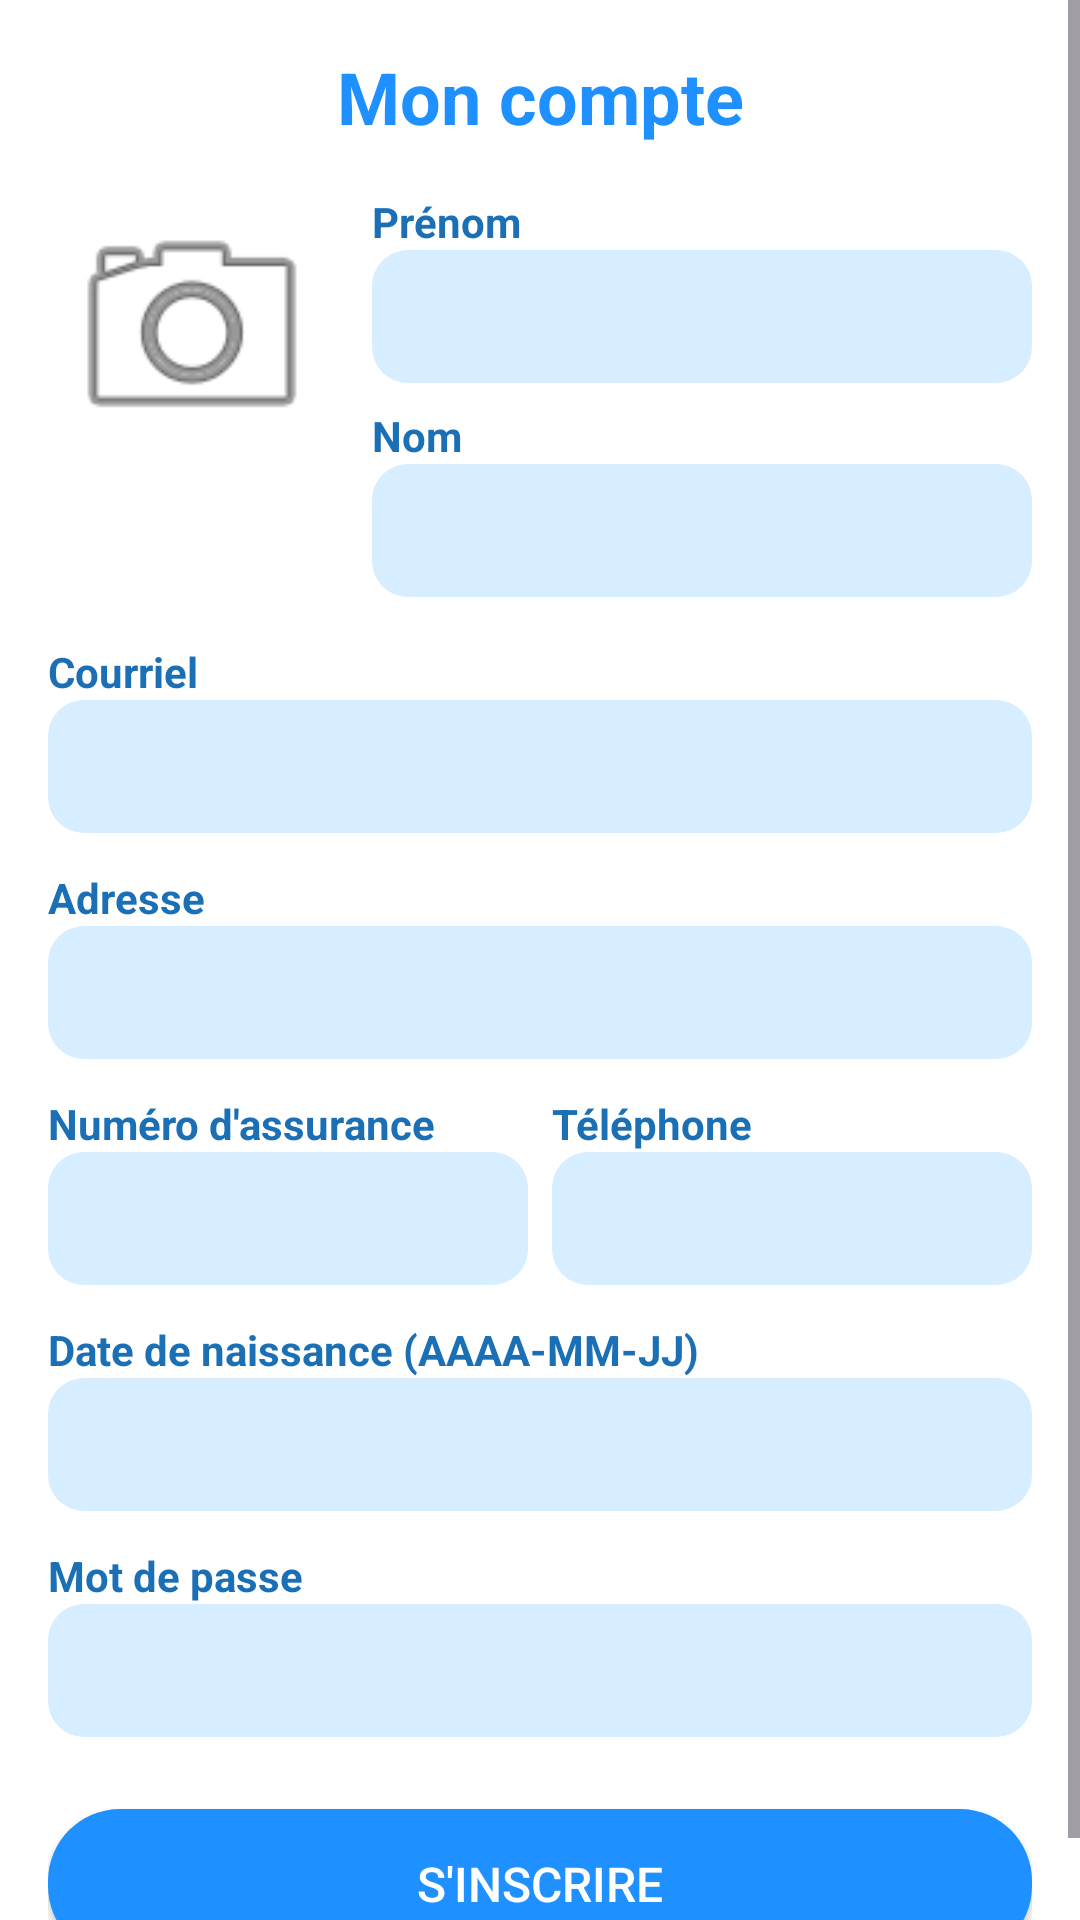

Icon bounding boxes for this 1080px×1920px phone screenshot, format BBox(x1, y1, x2, y2):
camera: BBox(87, 240, 296, 407)
